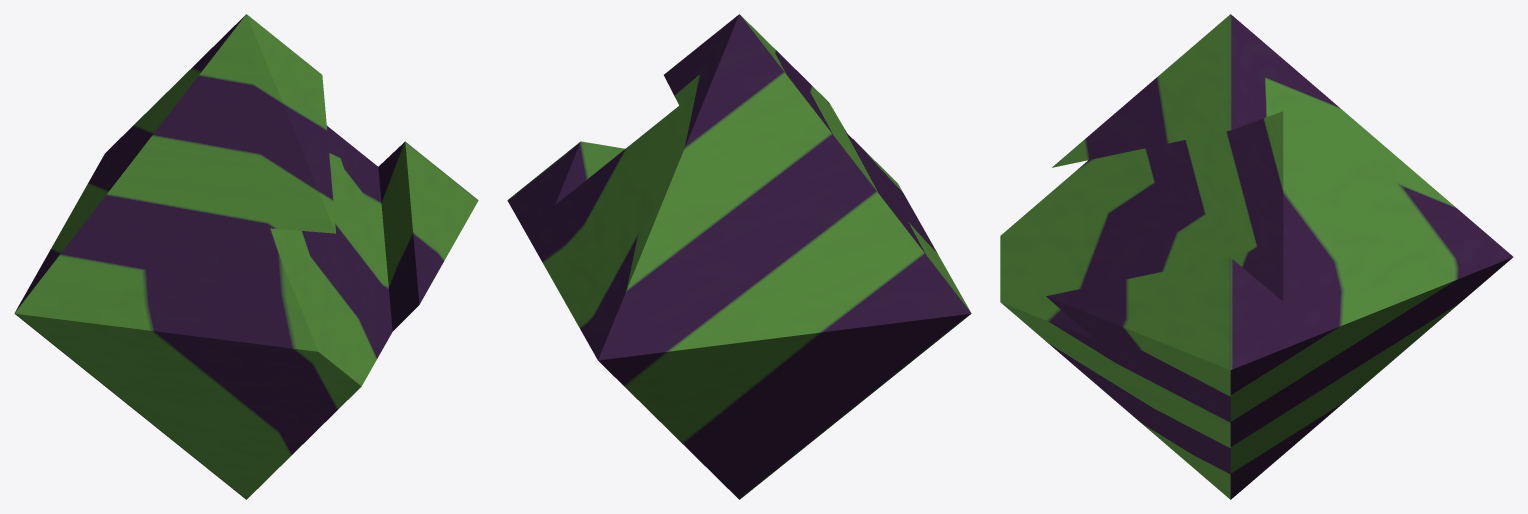
3 renders of one model, left to right at view 1: azimuth 30°, elevation 25°; view 2: azimuth 150°, elevation 25°; view 3: azimuth 270°, elevation 25°, orthographic.
Parts seen in each view (by area): view 1: geometry_0; view 2: geometry_0; view 3: geometry_0.
Part boxes in pixels (x1=…): geometry_0: x1=14, y1=14, x2=478, y2=499; geometry_0: x1=507, y1=14, x2=971, y2=499; geometry_0: x1=1000, y1=14, x2=1513, y2=499.
Bounding box in the file's own units: 0.8299 × 0.8299 × 0.7946.
Materials: 1 (1 with a texture image).
